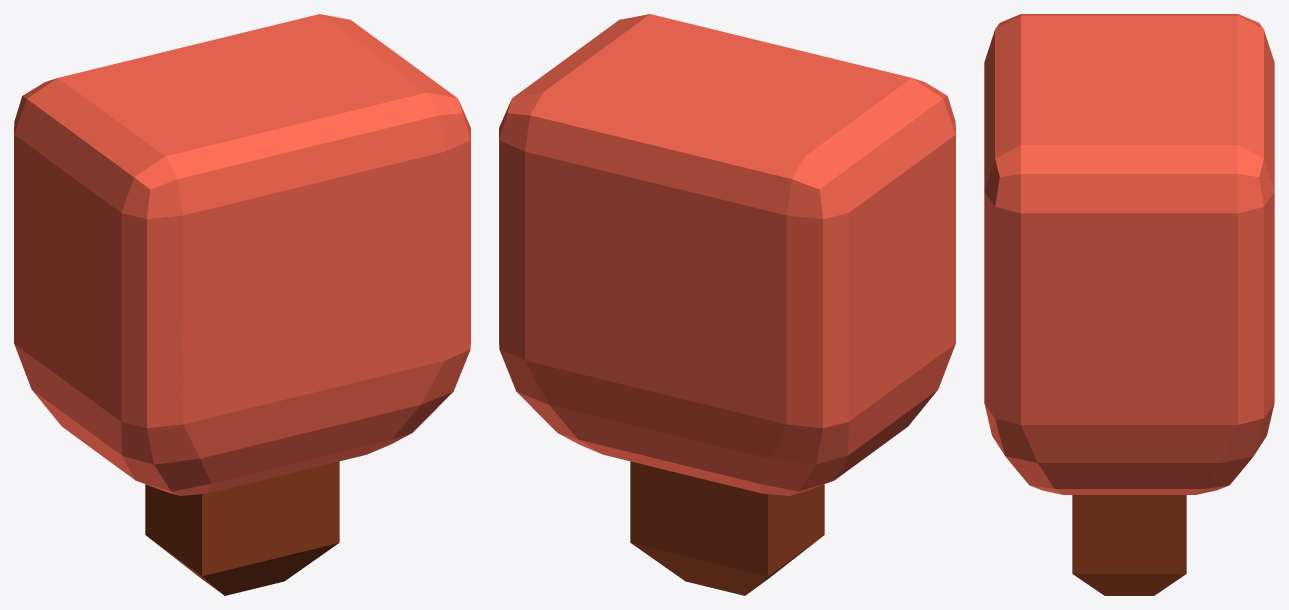
Rendered from target_dummy.fbx.
The picture shows the model from 3 angles, left to right: view 1: azimuth 30°, elevation 25°; view 2: azimuth 150°, elevation 25°; view 3: azimuth 270°, elevation 25°; orthographic projection.
Parts seen in each view (by area): view 1: Cube; view 2: Cube; view 3: Cube.
Boxes of the visible parts, x1,y1,x2,y2 form: Cube: (14, 14, 470, 595); Cube: (499, 14, 955, 595); Cube: (984, 14, 1274, 595).
Bounding box in the file's own units: 200 × 142 × 270.
